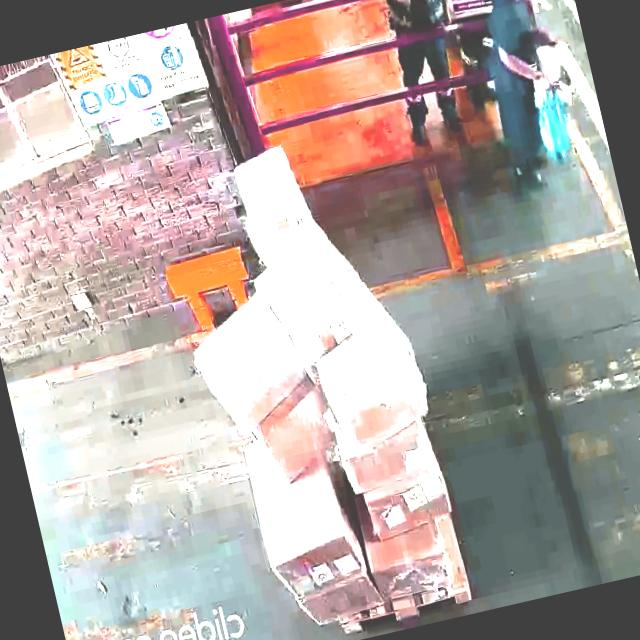Box: (313, 314, 438, 461), (190, 299, 306, 426), (251, 463, 358, 599), (266, 230, 350, 351), (252, 378, 342, 485), (229, 137, 314, 248), (360, 522, 452, 608), (360, 468, 454, 548), (337, 426, 434, 495), (295, 572, 380, 630)
